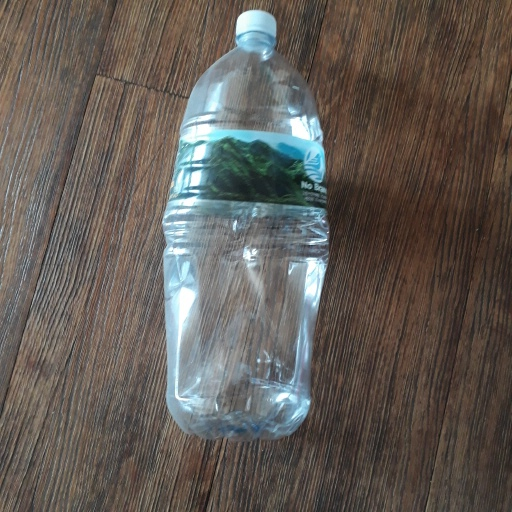Plastic_0: (157, 7, 331, 446)
